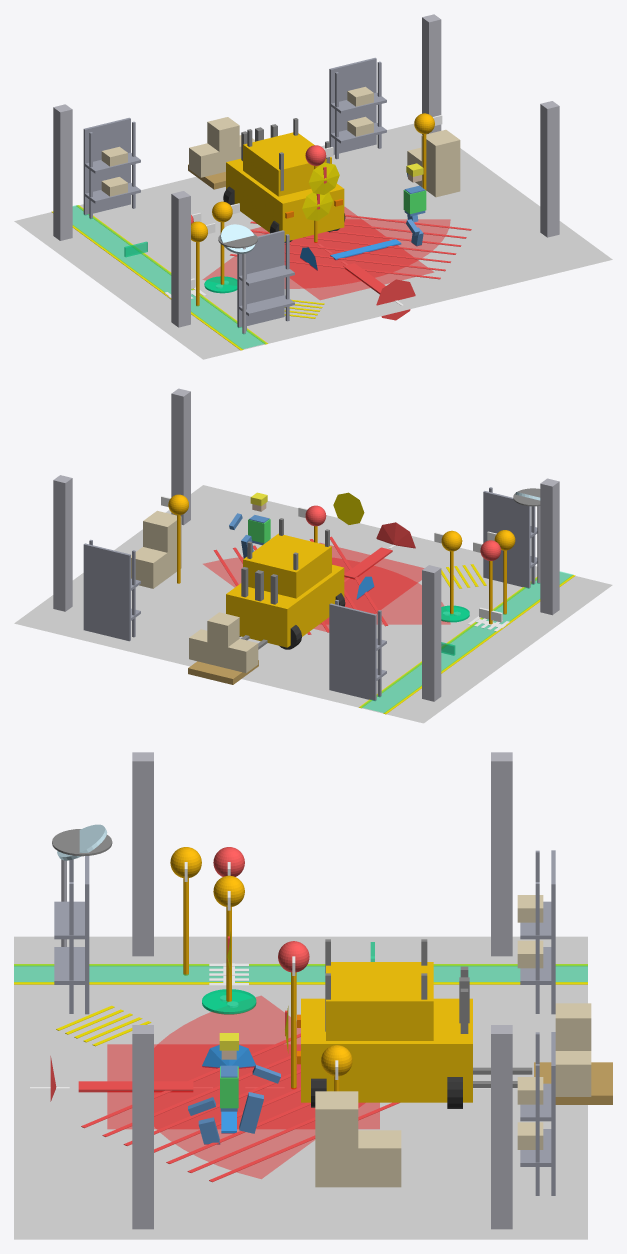
Rendered from forklift_ky.glb.
3 views of the same model, one above another, from view 1: azimuth 30°, elevation 25°; view 2: azimuth 150°, elevation 25°; view 3: azimuth 270°, elevation 25° (orthographic). The views are drawn at different scales.
Parts seen in each view (by area): view 1: Warehouse_Floor, Danger_Zone_Back, No_Entry_Zone, Forklift_Body, Safe_Pedestrian_Route, Forklift_Cab, Warehouse_Rack_03_Back, BlindSpot_Pillar_2, BlindSpot_Pillar_1, BlindSpot_Pillar_3, Warehouse_Rack_01_Back, Warehouse_Rack_02_Back (+15 smaller); view 2: Warehouse_Floor, Forklift_Body, Warehouse_Rack_02_Back, Warehouse_Rack_01_Back, Danger_Zone_Back, Forklift_Cab, Warehouse_Rack_03_Back, Safe_Pedestrian_Route, No_Entry_Zone, BlindSpot_Pillar_4, BlindSpot_Pillar_1, BlindSpot_Pillar_3 (+12 smaller); view 3: Warehouse_Floor, Danger_Zone_Back, Forklift_Body, No_Entry_Zone, Forklift_Cab, Safe_Pedestrian_Route, BlindSpot_Pillar_1, BlindSpot_Pillar_2, BlindSpot_Pillar_3, BlindSpot_Pillar_4, Cargo_Box_06, Cargo_Box_07 (+31 smaller).
Boxes of the visible parts, box(x1,y1,x2,y2) form: Warehouse_Floor: box(14, 123, 612, 359); Danger_Zone_Back: box(203, 219, 450, 288); No_Entry_Zone: box(251, 207, 433, 299); Forklift_Body: box(226, 158, 344, 241); Safe_Pedestrian_Route: box(72, 205, 266, 348); Forklift_Cab: box(243, 132, 331, 196); Warehouse_Rack_03_Back: box(237, 230, 284, 327); BlindSpot_Pillar_2: box(540, 101, 559, 237); BlindSpot_Pillar_1: box(171, 191, 190, 327); BlindSpot_Pillar_3: box(53, 104, 72, 240); Warehouse_Rack_01_Back: box(83, 117, 130, 215); Warehouse_Rack_02_Back: box(329, 57, 376, 154); Warehouse_Floor: box(14, 485, 612, 723); Forklift_Body: box(226, 564, 344, 647); Warehouse_Rack_02_Back: box(83, 543, 130, 641); Warehouse_Rack_01_Back: box(329, 603, 376, 700); Danger_Zone_Back: box(203, 557, 450, 624); Forklift_Cab: box(243, 533, 331, 598); Warehouse_Rack_03_Back: box(483, 491, 530, 588); Safe_Pedestrian_Route: box(361, 571, 573, 712); No_Entry_Zone: box(314, 543, 423, 631); BlindSpot_Pillar_4: box(53, 475, 72, 611); BlindSpot_Pillar_1: box(540, 478, 559, 615); BlindSpot_Pillar_3: box(422, 565, 441, 701); Warehouse_Floor: box(14, 936, 587, 1239); Danger_Zone_Back: box(154, 996, 364, 1178); Forklift_Body: box(301, 998, 472, 1102); No_Entry_Zone: box(107, 1044, 379, 1128); Forklift_Cab: box(326, 962, 433, 1040); Safe_Pedestrian_Route: box(14, 964, 587, 982); BlindSpot_Pillar_1: box(132, 752, 153, 956); BlindSpot_Pillar_2: box(132, 1025, 153, 1229); BlindSpot_Pillar_3: box(491, 752, 512, 956); BlindSpot_Pillar_4: box(491, 1025, 512, 1229); Cargo_Box_06: box(315, 1091, 358, 1148); Cargo_Box_07: box(358, 1130, 401, 1187).
Size of what is drawn, in the model's own units: 10 by 3.46 by 8.35.
